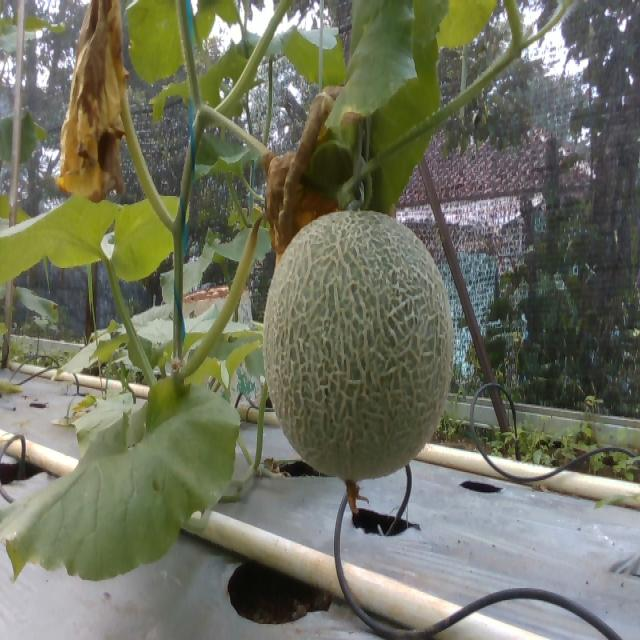melon: (264, 211, 454, 482)
